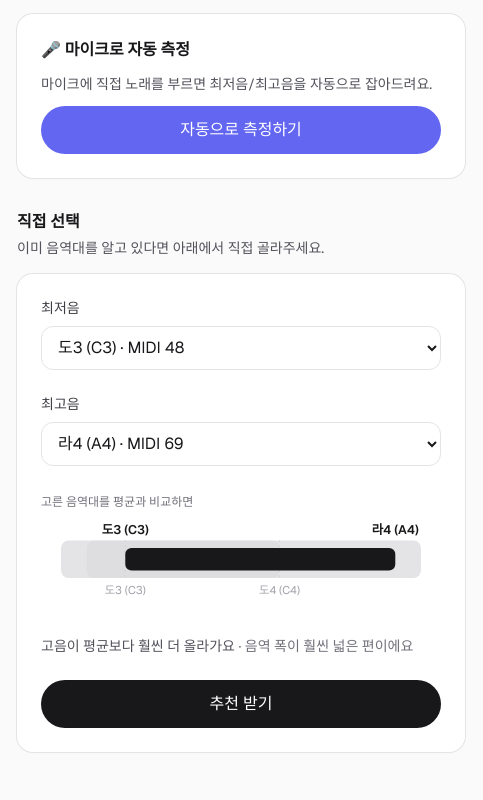
Test case: VoiceRangePage a11y › submit 에러 시 role=alert 메시지가 노출된다 (#464)
The width and height of the screenshot is (483, 800).
(page scrolled)
Click the button "추천 받기": [241, 704] box [41,680,441,728]
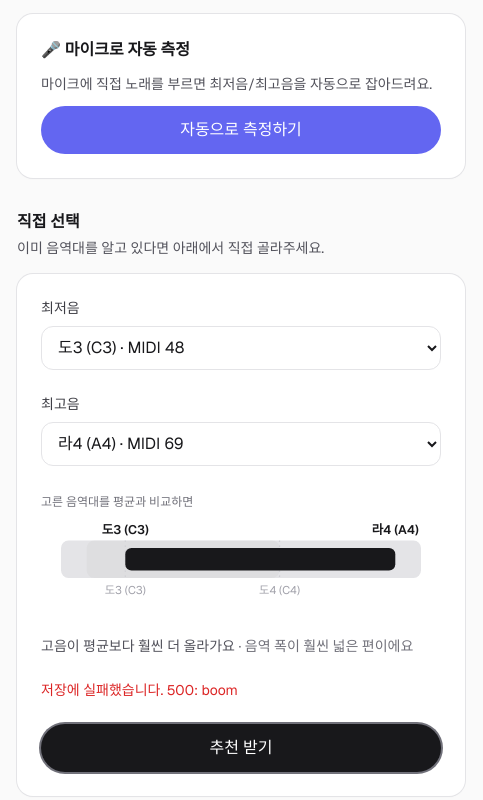
Check: the message shows "저장에 실패했습니다", box [41,681,167,699]
Check: the message shows "500: boom", box [167,681,238,699]
